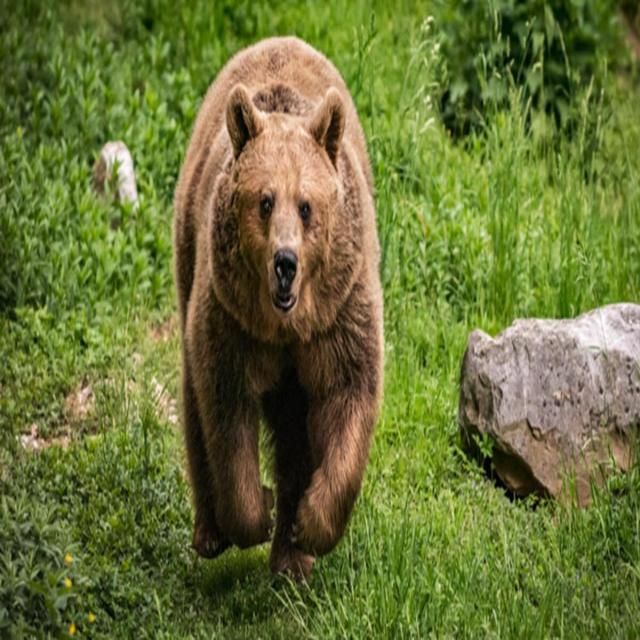Bear: (172, 35, 387, 586)
